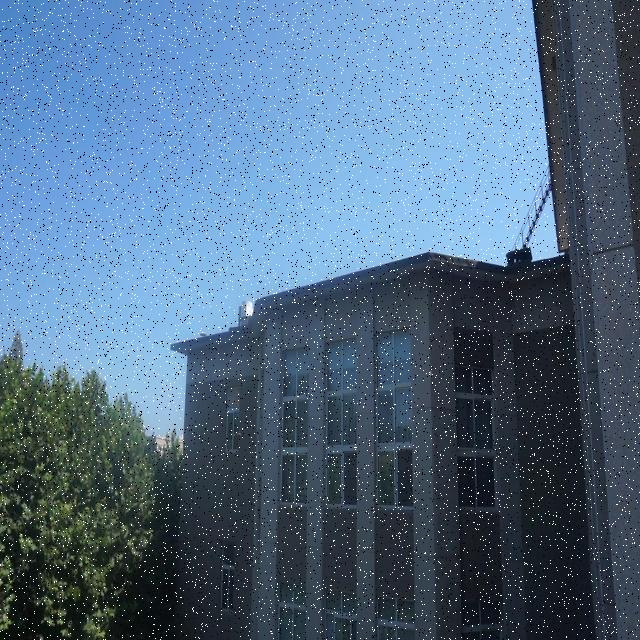UAV: (234, 432, 242, 437)
